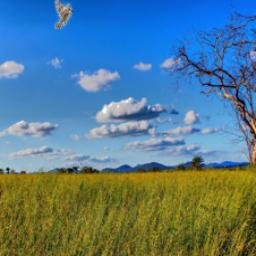Sparrow: (54, 0, 72, 29)
